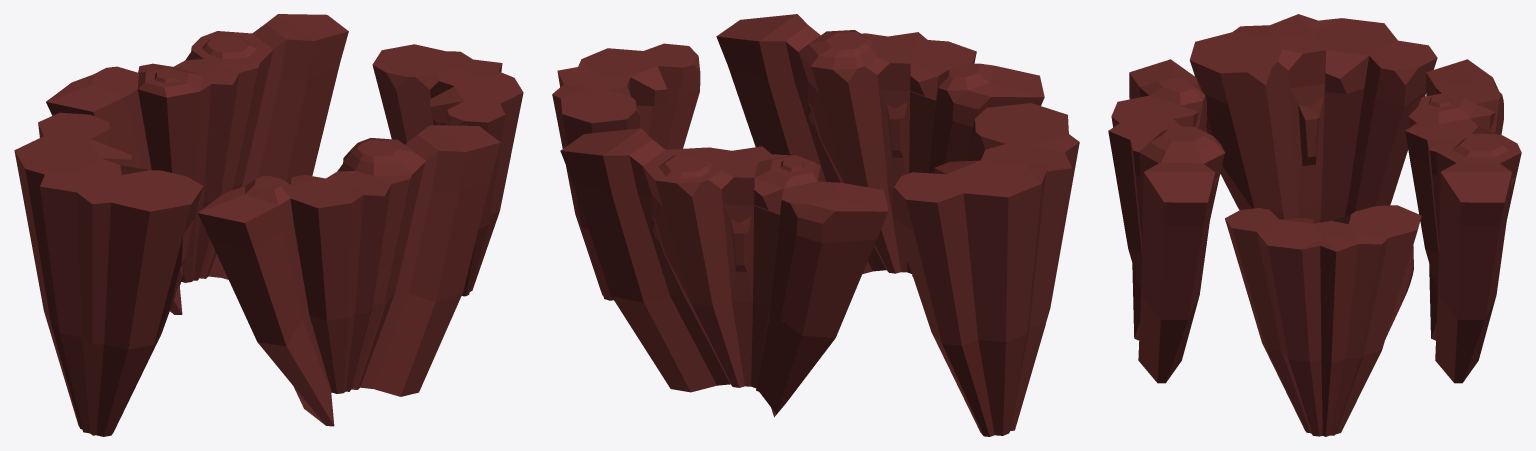
The model's file is hell2_side.fbx.
The picture shows the model from 3 angles, left to right: view 1: azimuth 30°, elevation 25°; view 2: azimuth 150°, elevation 25°; view 3: azimuth 270°, elevation 25°; orthographic projection. The views are drawn at different scales.
Visible parts, largest first — view 1: Circle.004; view 2: Circle.004; view 3: Circle.004.
Part boxes in pixels (x1,y1,x2,y2): Circle.004: (14, 14, 523, 436); Circle.004: (552, 14, 1079, 436); Circle.004: (1108, 14, 1521, 436).
Size of the model in its own units: 5081 by 2781 by 3865.
